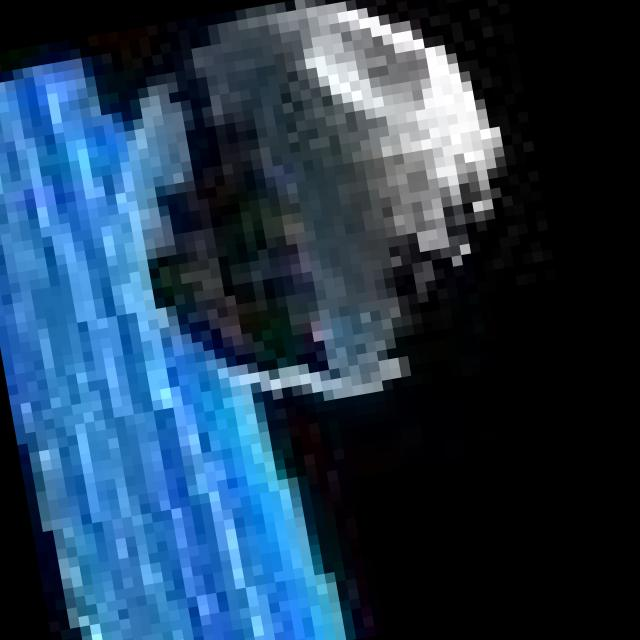Death Star: (79, 0, 556, 423)
